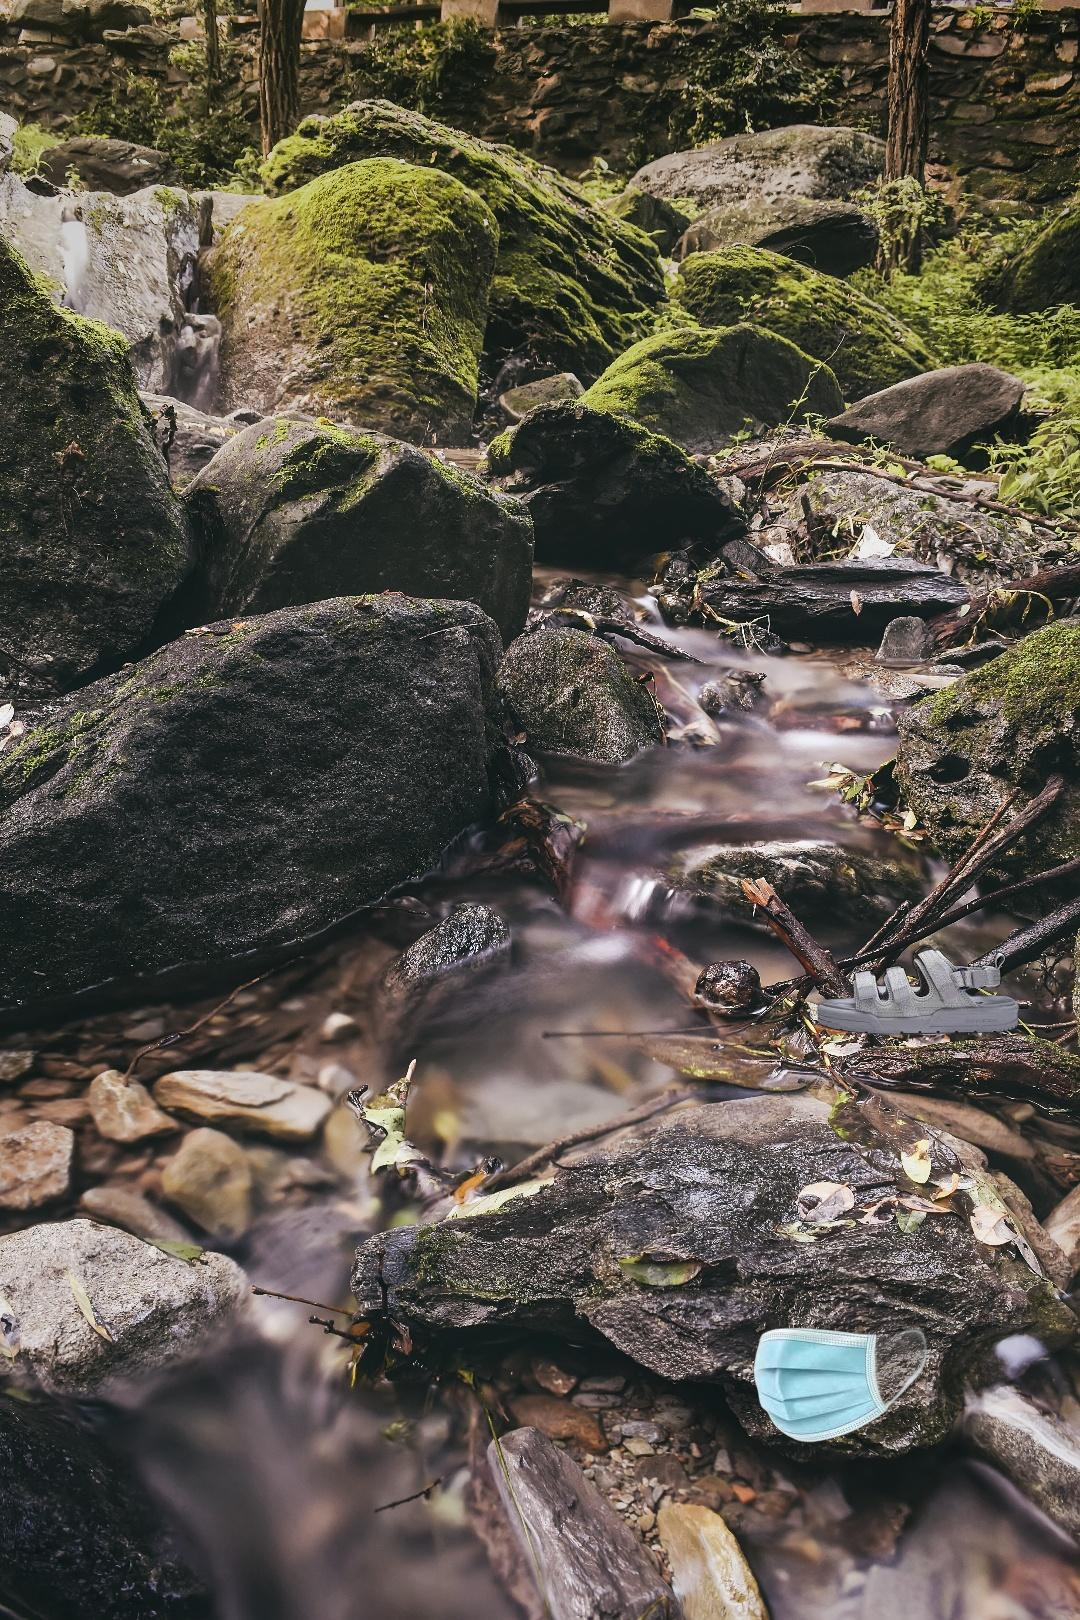shoes: (814, 941, 1022, 1038)
trash: (750, 1323, 933, 1445)
